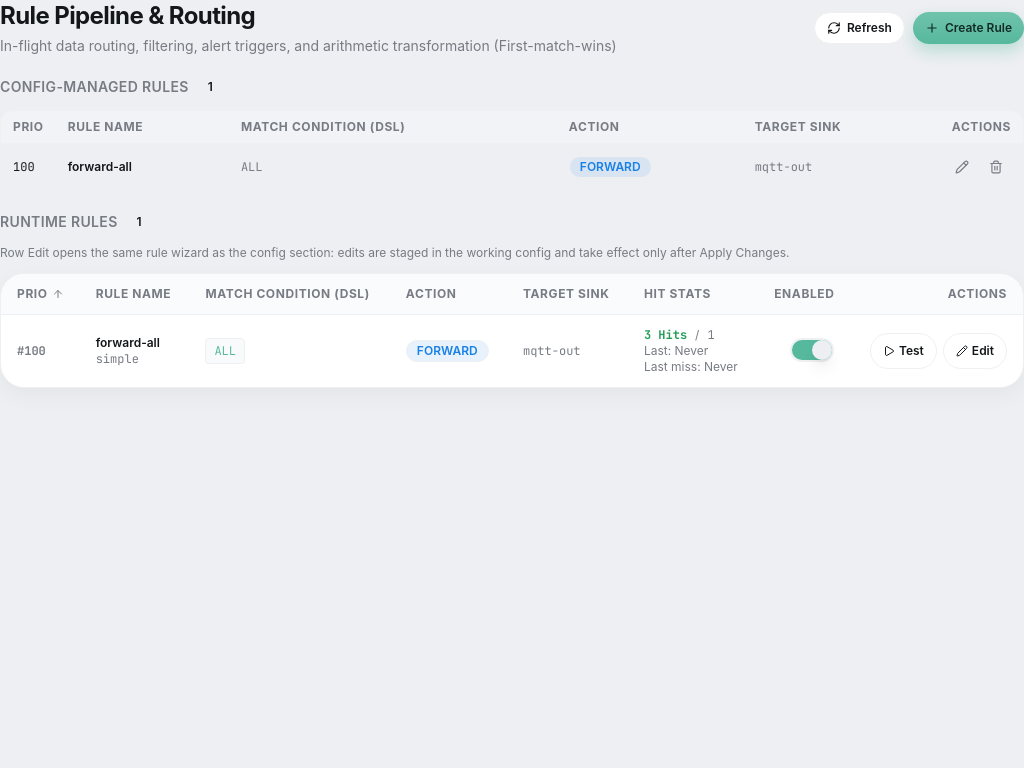
Test case: RulesPage runtime-row edit unification › runtime row Edit opens the shared RuleWizard — not a direct hot-reload editor
Check: the text "forward-all" is shown 2 times, box [56,144,229,190]; [96,335,160,350]
Click the button "Edit".
click(975, 351)  # box [943,333,1007,369]
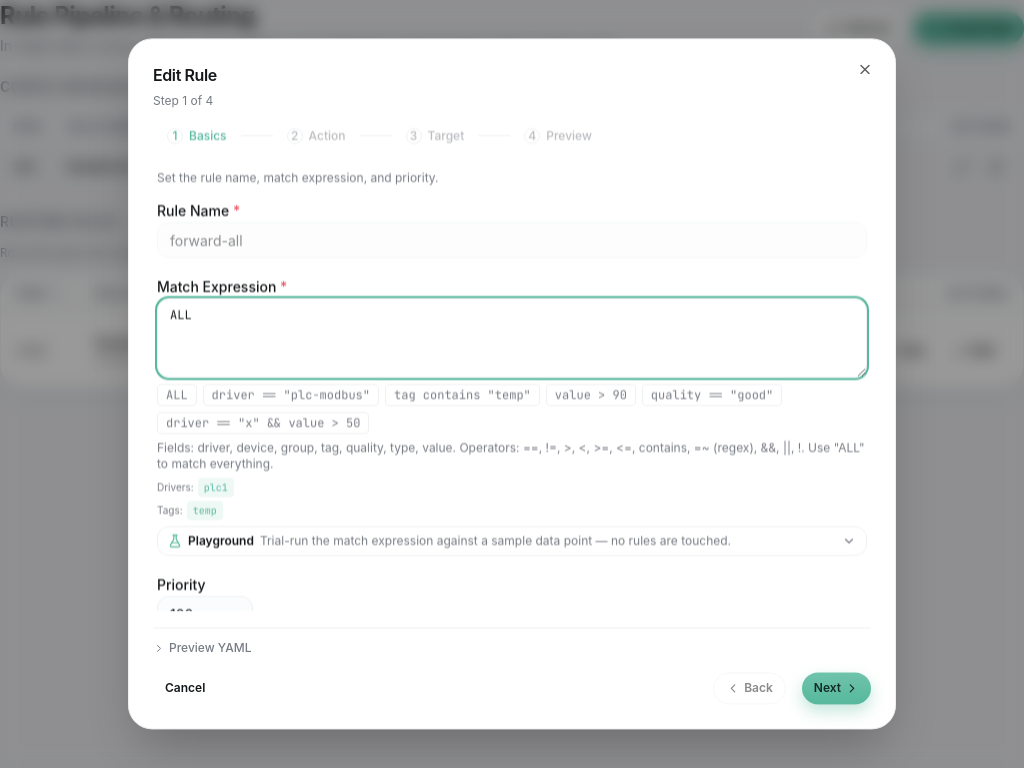
Check: the heading "Edit Rule" is shown, box [153,65,217,85]
Check: the field with placeholder "forward-to-cloud" holds "forward-all", box [157,223,867,259]
Check: the text box showing "ALL" is shown, box [157,299,867,379]
